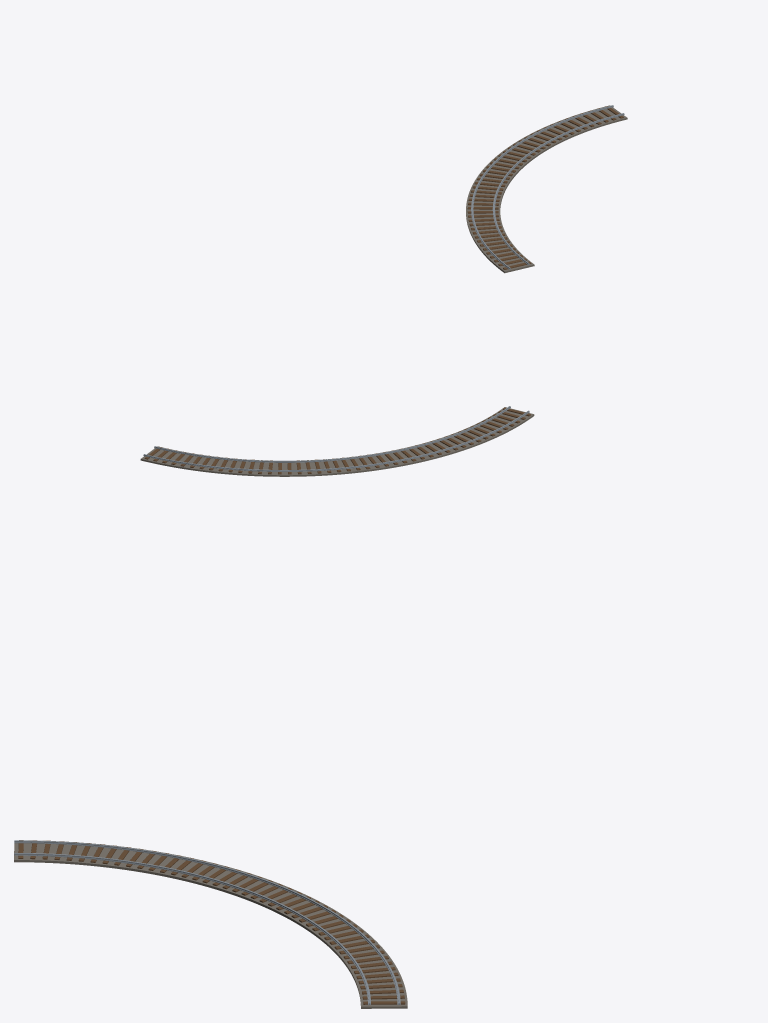
Rendered from rail_virage_geant.glb.
3 renders of one model, top to bottom at view 1: azimuth 30°, elevation 25°; view 2: azimuth 150°, elevation 25°; view 3: azimuth 270°, elevation 25°, orthographic. The views are drawn at different scales.
Visible parts, largest first — view 1: rail_ballast.010, rail_traverse.010, rail_rail.010; view 2: rail_ballast.010, rail_traverse.010, rail_rail.010; view 3: rail_ballast.010, rail_traverse.010, rail_rail.010.
Part boxes in pixels (bbox=[...]): rail_ballast.010: bbox=[466, 105, 627, 273]; rail_traverse.010: bbox=[467, 106, 623, 269]; rail_rail.010: bbox=[471, 105, 624, 269]; rail_ballast.010: bbox=[140, 407, 534, 476]; rail_traverse.010: bbox=[144, 407, 530, 474]; rail_rail.010: bbox=[143, 406, 529, 471]; rail_ballast.010: bbox=[14, 840, 407, 1008]; rail_traverse.010: bbox=[18, 840, 405, 1004]; rail_rail.010: bbox=[14, 840, 400, 1004].
Bounding box in the file's own units: 15.01 × 0.12 × 15.01.
